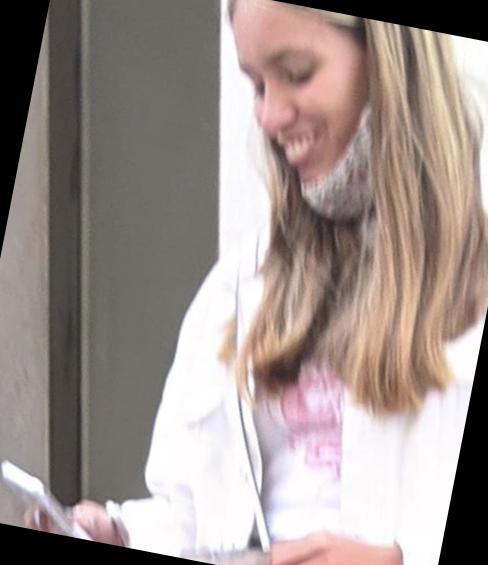mask_weared_incorrect: (202, 16, 418, 218)
